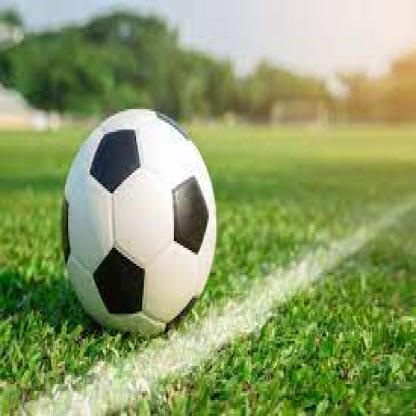ball: (62, 107, 217, 338)
